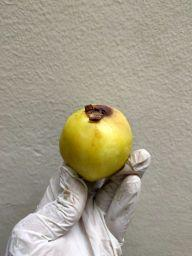guava: (57, 101, 134, 185)
